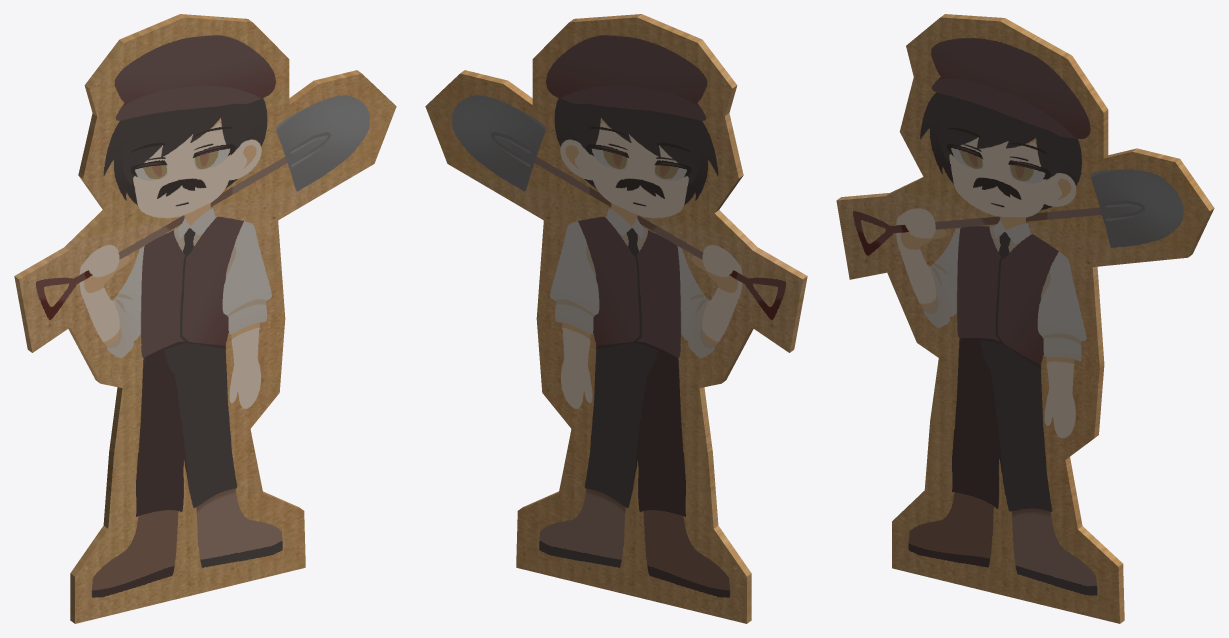
The model's file is NPC_Base_3_Construction_Worker.glb.
The picture shows the model from 3 angles, left to right: view 1: azimuth 30°, elevation 25°; view 2: azimuth 150°, elevation 25°; view 3: azimuth 330°, elevation 25°; orthographic projection.
Visible parts, largest first — view 1: NPC_Base_3_Construction_Worker; view 2: NPC_Base_3_Construction_Worker; view 3: NPC_Base_3_Construction_Worker.
Part boxes in pixels (x1,y1,x2,y2): NPC_Base_3_Construction_Worker: [14, 14, 396, 623]; NPC_Base_3_Construction_Worker: [425, 14, 807, 623]; NPC_Base_3_Construction_Worker: [836, 14, 1214, 623].
Bounding box in the file's own units: 1.38 × 2.03 × 0.03.
Materials: 1 (1 with a texture image).
